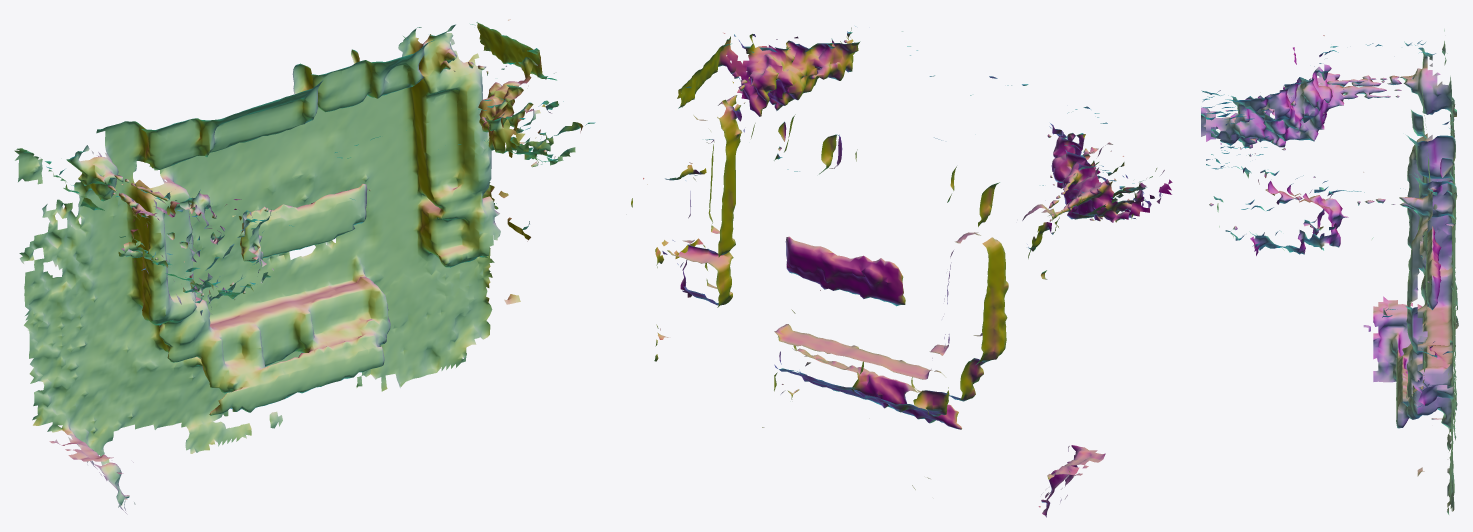
Rendered from voxblox.glb.
3 views of the same model, side by side, from view 1: azimuth 30°, elevation 25°; view 2: azimuth 150°, elevation 25°; view 3: azimuth 270°, elevation 25° (orthographic). The views are drawn at different scales.
Bounding box in the file's own units: 8.8 × 6.72 × 4.19.
